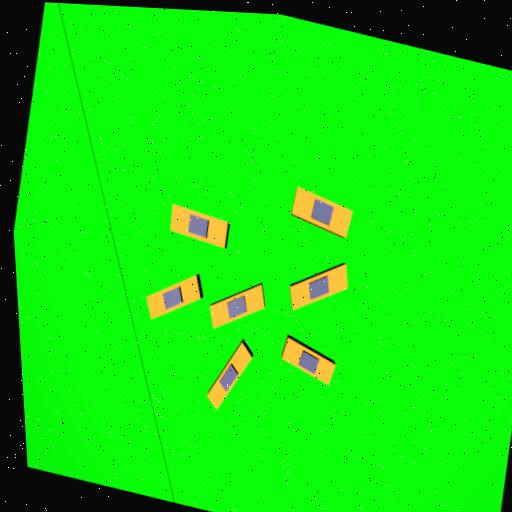objects: (203, 341, 257, 410), (287, 187, 357, 238), (283, 263, 354, 311), (165, 205, 233, 249), (141, 275, 206, 321), (278, 337, 340, 385), (205, 285, 270, 328)
